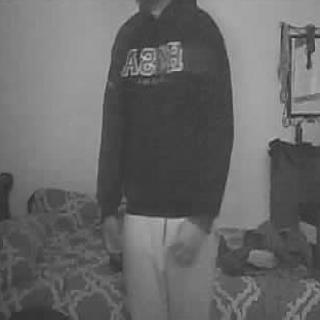HOSA hoodie: (111, 13, 217, 212)
White Sweatpants: (123, 212, 218, 320)
